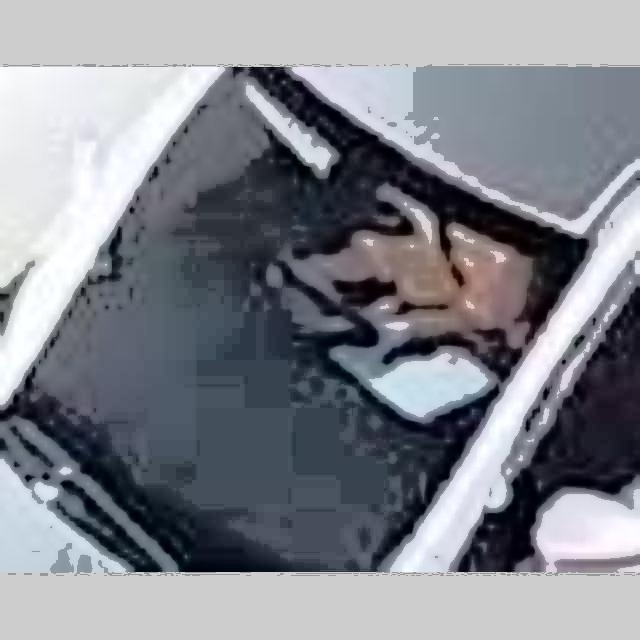pakai: (293, 177, 536, 390)
